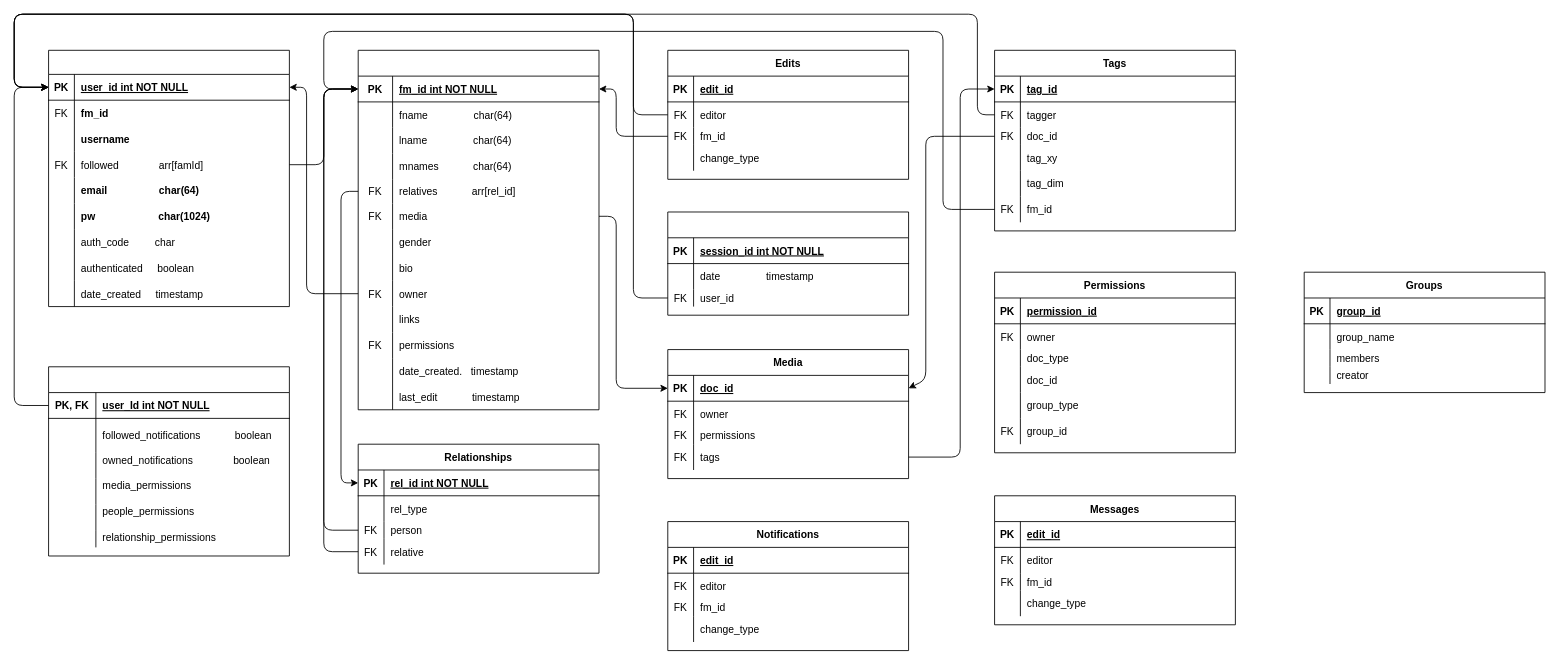
Some shapes in this 1559 by 665 pixel diagram are drawn without their labels. The shapes that lost their labels are listed below. From the top down, each one's box as (x1, y1, x2, y2) in pixels, then its label:
(48, 49, 289, 307): Users
(357, 49, 599, 410): People
(667, 211, 909, 315): Sessions
(48, 366, 289, 556): Preferences
